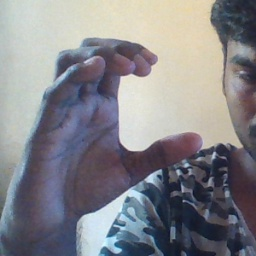C: (83, 31, 212, 182)
